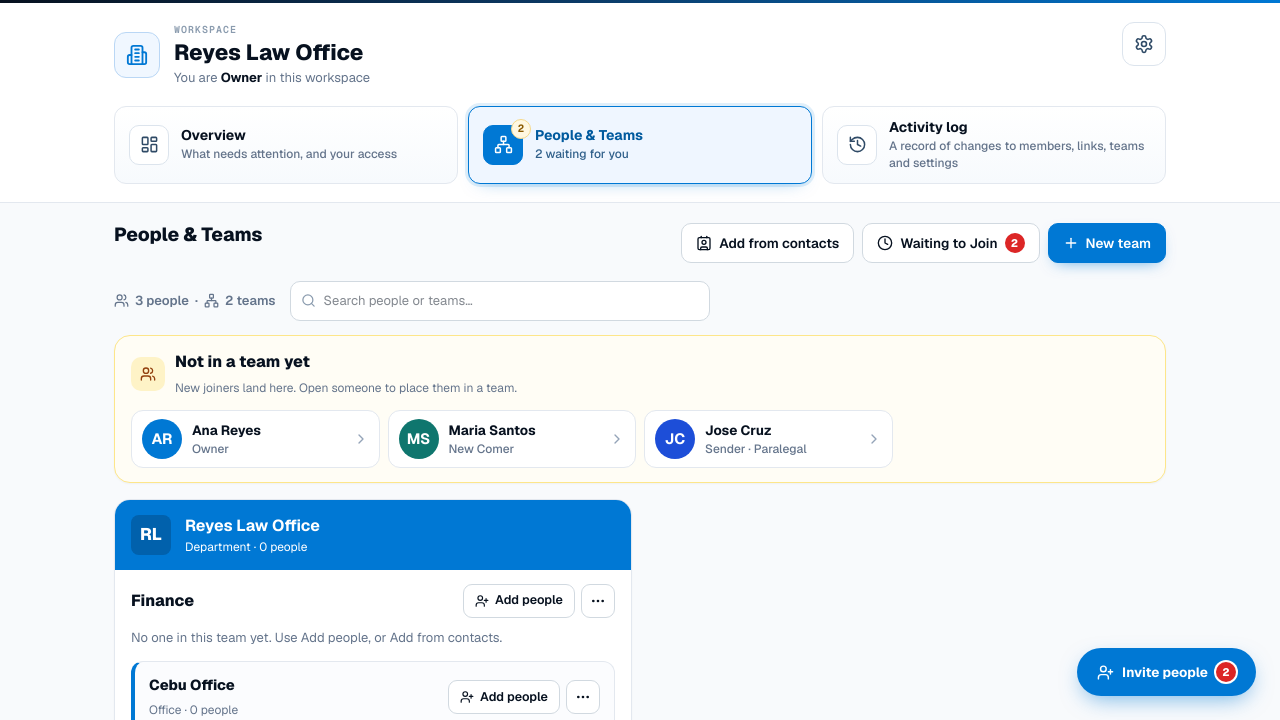
Workspace shell — the active part follows the URL › moves with a part click, keeping the header mounted
Click the link with test id "part-activity". click: (994, 145)
box: [822, 106, 1166, 184]
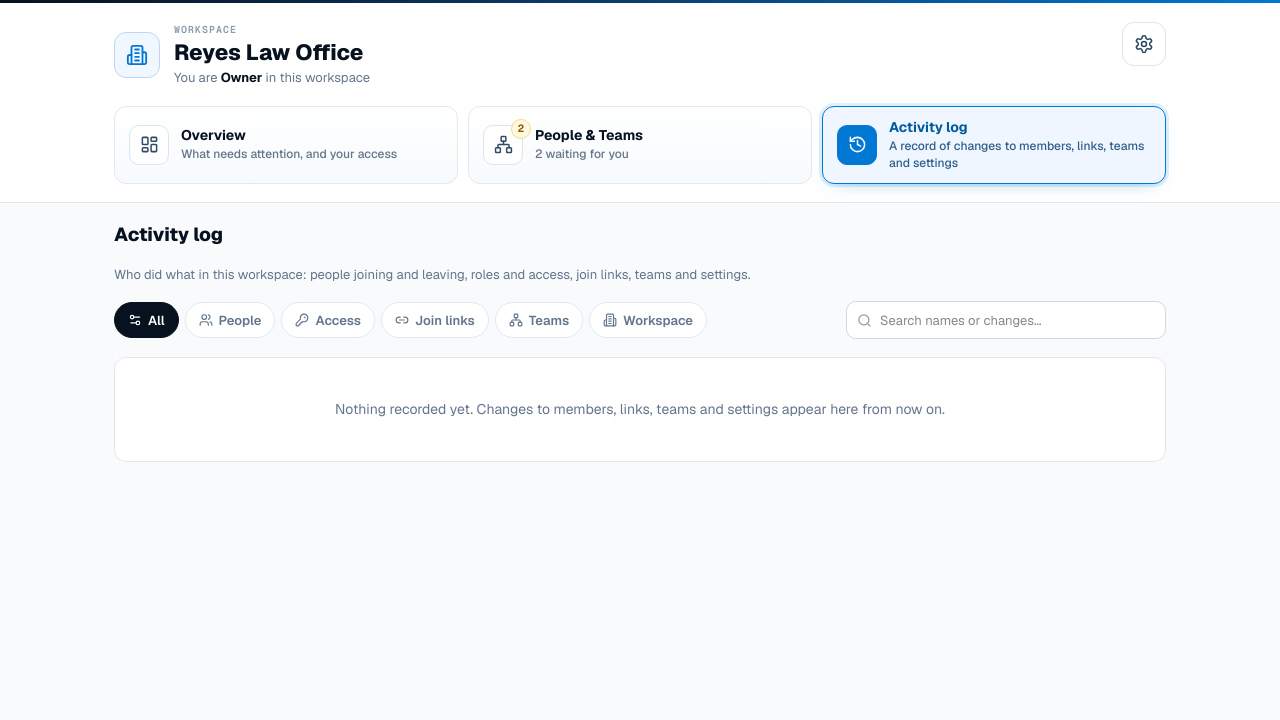
Result: the heading "Activity log" is shown at [114, 223, 223, 247]
